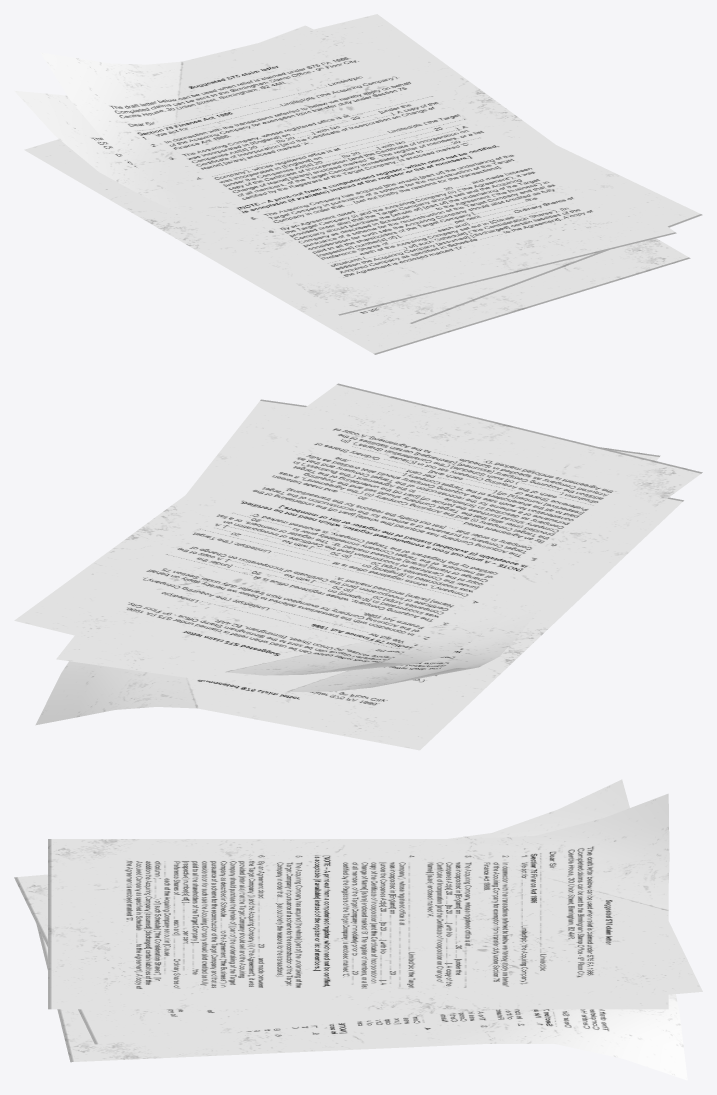
File: paper.glb
The picture shows the model from 3 angles, top to bottom: view 1: azimuth 30°, elevation 25°; view 2: azimuth 150°, elevation 25°; view 3: azimuth 270°, elevation 25°; orthographic projection. The views are drawn at different scales.
Parts seen in each view (by area): view 1: 02_all_0, 02_2_all_0, 02_1_all_0; view 2: 02_all_0, 02_2_all_0, 02_1_all_0; view 3: 02_all_0, 02_2_all_0, 02_1_all_0.
Part boxes in pixels (bbox=[...]): 02_all_0: bbox=[40, 14, 676, 315]; 02_2_all_0: bbox=[24, 139, 690, 354]; 02_1_all_0: bbox=[14, 25, 702, 323]; 02_all_0: bbox=[14, 383, 702, 675]; 02_2_all_0: bbox=[35, 497, 683, 750]; 02_1_all_0: bbox=[56, 399, 660, 691]; 02_all_0: bbox=[48, 793, 669, 1009]; 02_2_all_0: bbox=[36, 924, 687, 1080]; 02_1_all_0: bbox=[14, 779, 702, 1044].
Bounding box in the file's own units: 0.837 × 0.2335 × 1.11.
1 material, 1 textured.
